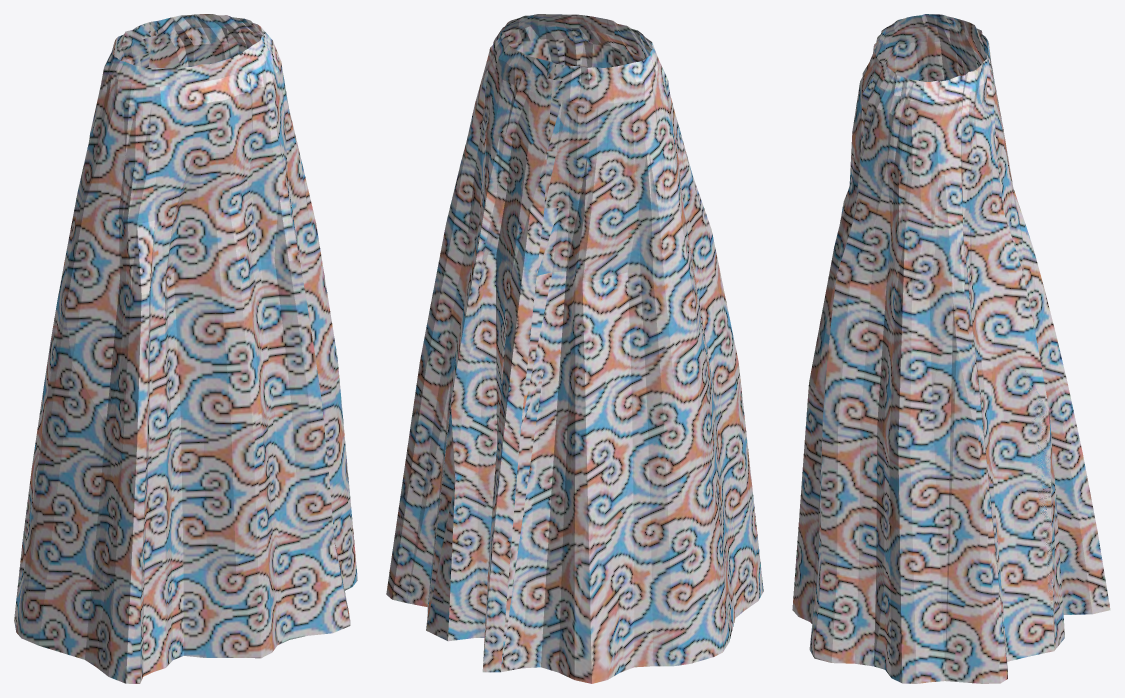
The model's file is big_skirt_waves.obj.
3 renders of one model, left to right at view 1: azimuth 30°, elevation 25°; view 2: azimuth 150°, elevation 25°; view 3: azimuth 270°, elevation 25°, orthographic.
Parts seen in each view (by area): view 1: lowertunic; view 2: lowertunic; view 3: lowertunic.
Part boxes in pixels (x1=…): lowertunic: x1=14, y1=14, x2=357, y2=683; lowertunic: x1=386, y1=14, x2=763, y2=683; lowertunic: x1=792, y1=14, x2=1110, y2=683.
Size of the model in its own units: 0.3681 by 0.6381 by 0.3278.
Materials: 1 (1 with a texture image).
